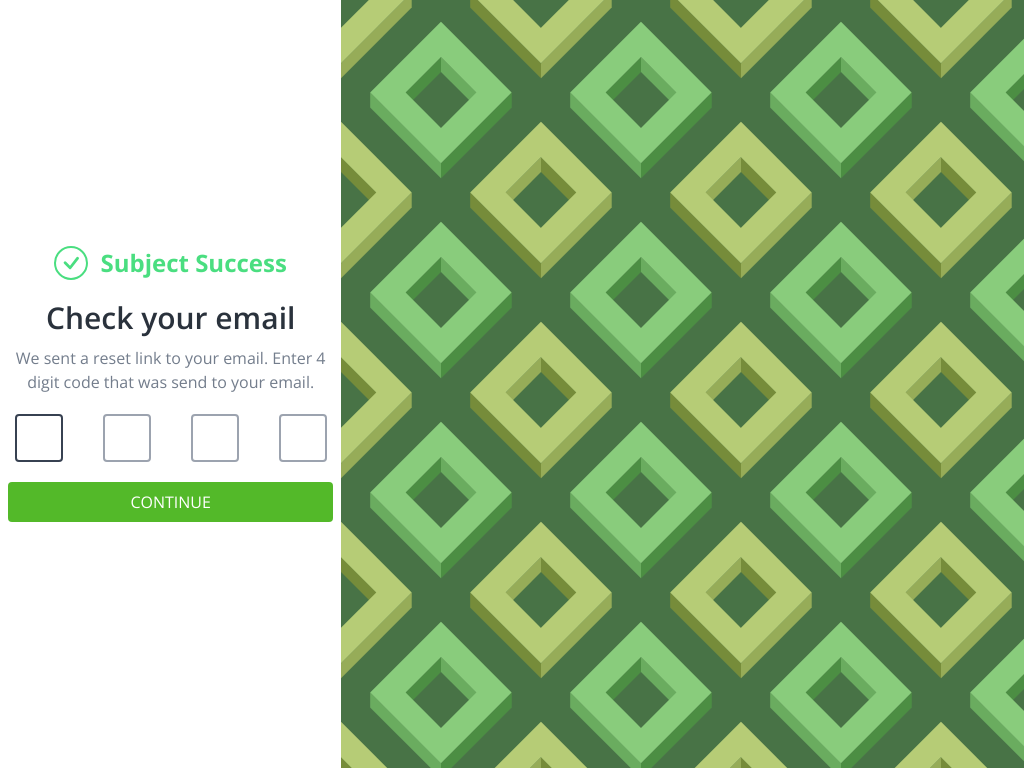
it: OtpPage Component Test › should display an error message if OTP fields are not filled
Click the button "Continue": (171, 502) [8,482,333,522]
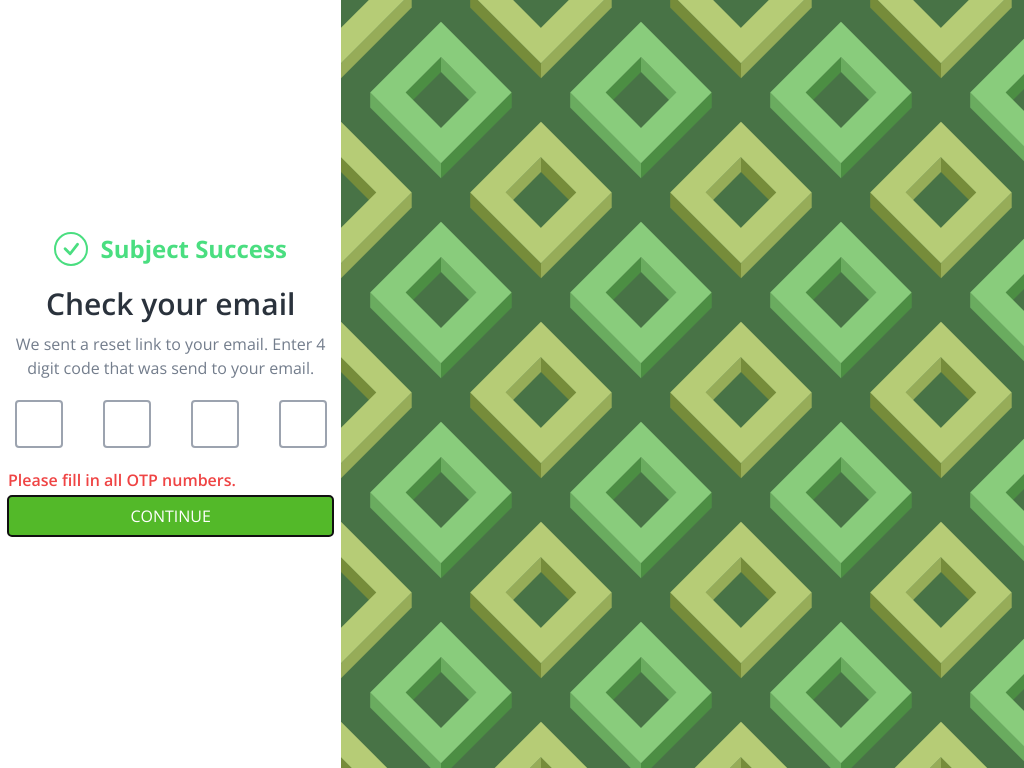
Expected: the text "Please fill in all OTP numbers." is shown, [8,469,236,491]
